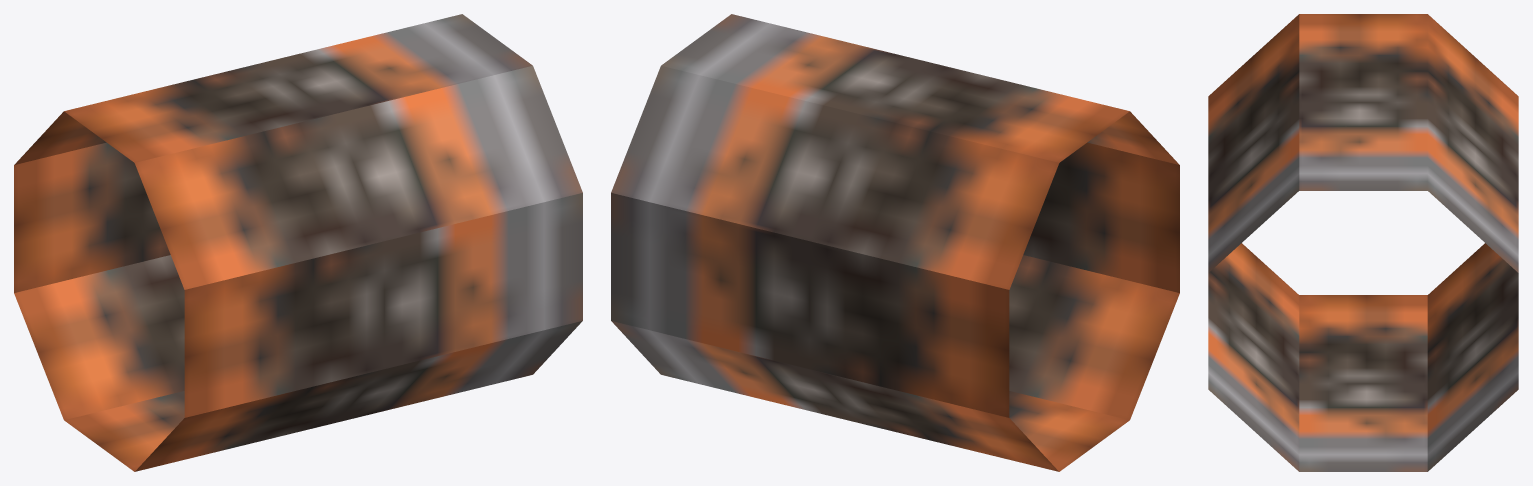
File: Weapon_Top-UVFlip.obj
The picture shows the model from 3 angles, left to right: view 1: azimuth 30°, elevation 25°; view 2: azimuth 150°, elevation 25°; view 3: azimuth 270°, elevation 25°; orthographic projection. The views are drawn at different scales.
Parts seen in each view (by area): view 1: PulsarGunUV; view 2: PulsarGunUV; view 3: PulsarGunUV.
Boxes of the visible parts, <box> form: PulsarGunUV: <box>14,14,582,471</box>; PulsarGunUV: <box>611,14,1179,471</box>; PulsarGunUV: <box>1208,14,1518,471</box>.
Size of the model in its own units: 2.68 by 1.99 by 1.99.
